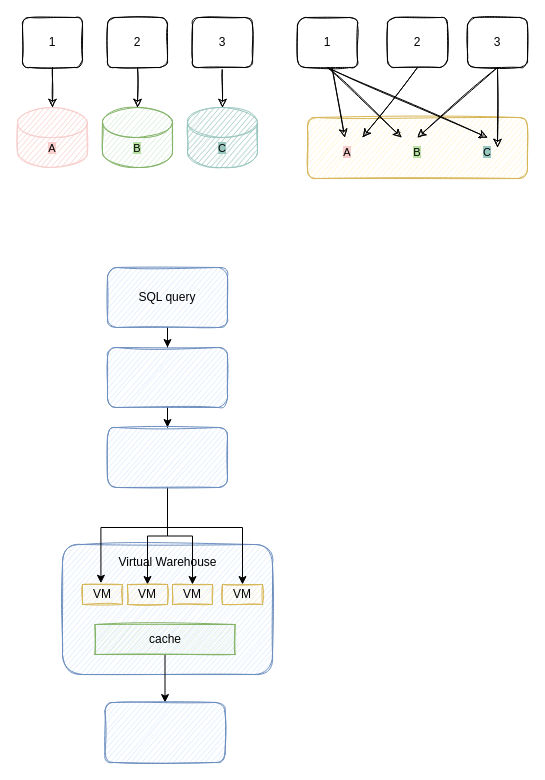
This 545x780 diagram has some shape labels left out. Each missing label, with the centre of its shape:
"consistent hashing" goes at [167,457].
"Data storage" goes at [164,732].
"query optimizer" goes at [167,377].
